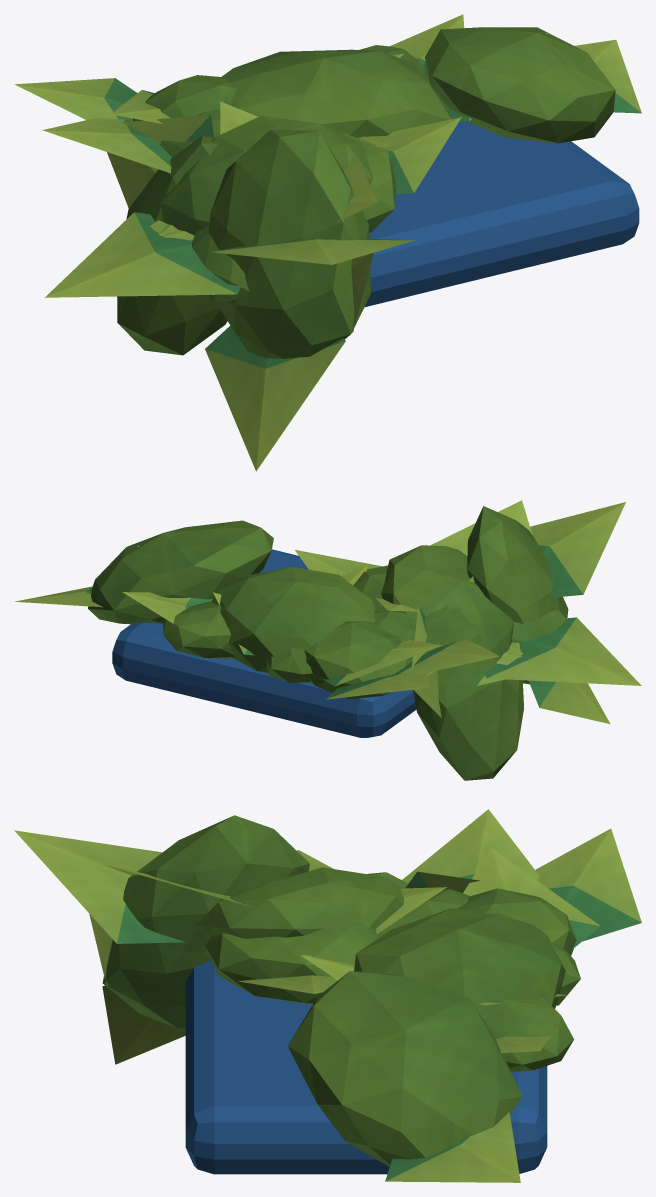
File: kit_roof_tile.glb
3 renders of one model, top to bottom at view 1: azimuth 30°, elevation 25°; view 2: azimuth 150°, elevation 25°; view 3: azimuth 270°, elevation 25°, orthographic. The views are drawn at different scales.
Visible parts, largest first — view 1: Soft edged blue roof tile, Woodland shared moss cushion.058, Woodland shared moss cushion.054, Woodland shared moss cushion.050, Woodland shared curved ivy leaf.126, Woodland shared curved ivy leaf.137, Woodland shared moss cushion.061, Woodland shared moss cushion.059, Woodland shared curved ivy leaf.130, Woodland shared curved ivy leaf.141, Woodland shared curved ivy leaf.123, Woodland shared curved ivy leaf.143 (+10 smaller); view 2: Soft edged blue roof tile, Woodland shared moss cushion.054, Woodland shared moss cushion.061, Woodland shared moss cushion.050, Woodland shared moss cushion.058, Woodland shared moss cushion.059, Woodland shared curved ivy leaf.126, Woodland shared curved ivy leaf.125, Woodland shared moss cushion.060, Woodland shared moss cushion.057, Woodland shared curved ivy leaf.137, Woodland shared curved ivy leaf.130 (+11 smaller); view 3: Woodland shared moss cushion.054, Soft edged blue roof tile, Woodland shared moss cushion.058, Woodland shared moss cushion.050, Woodland shared moss cushion.059, Woodland shared curved ivy leaf.125, Woodland shared moss cushion.051, Woodland shared curved ivy leaf.141, Woodland shared curved ivy leaf.128, Woodland shared moss cushion.057, Woodland shared curved ivy leaf.130, Woodland shared curved ivy leaf.132 (+10 smaller).
Boxes of the visible parts, x1,y1,x2,y2 form: Soft edged blue roof tile: (365,121,639,306); Woodland shared moss cushion.058: (208,129,370,358); Woodland shared moss cushion.054: (425,27,615,143); Woodland shared moss cushion.050: (220,49,451,137); Woodland shared curved ivy leaf.126: (45,212,240,297); Woodland shared curved ivy leaf.137: (205,325,345,471); Woodland shared moss cushion.061: (117,136,227,355); Woodland shared moss cushion.059: (160,115,373,235); Woodland shared curved ivy leaf.130: (42,118,171,173); Woodland shared curved ivy leaf.141: (14,78,137,121); Woodland shared curved ivy leaf.123: (379,117,461,194); Woodland shared curved ivy leaf.143: (107,114,214,208); Soft edged blue roof tile: (112,549,416,737); Woodland shared moss cushion.054: (88,520,273,624); Woodland shared moss cushion.061: (413,603,523,780); Woodland shared moss cushion.050: (211,567,375,673); Woodland shared moss cushion.058: (467,506,568,684); Woodland shared moss cushion.059: (381,545,513,660); Woodland shared curved ivy leaf.126: (484,617,641,685); Woodland shared curved ivy leaf.125: (530,502,625,597); Woodland shared moss cushion.060: (304,621,412,699); Woodland shared moss cushion.057: (163,602,234,658); Woodland shared curved ivy leaf.137: (529,680,610,724); Woodland shared curved ivy leaf.130: (393,639,499,674); Woodland shared moss cushion.054: (288,971,522,1166); Soft edged blue roof tile: (185,960,547,1174); Woodland shared moss cushion.058: (102,815,309,1028); Woodland shared moss cushion.050: (354,908,565,1019); Woodland shared moss cushion.059: (196,867,403,938); Woodland shared curved ivy leaf.125: (14,830,185,943); Woodland shared moss cushion.051: (205,925,383,1004); Woodland shared curved ivy leaf.141: (535,828,641,941); Woodland shared curved ivy leaf.128: (385,1112,520,1182); Woodland shared moss cushion.057: (484,998,573,1071); Woodland shared curved ivy leaf.130: (402,809,539,883); Woodland shared curved ivy leaf.132: (463,848,600,949).
Size of the model in its own units: 0.7795 by 0.3074 by 0.5904.
Materials: 4 (3 with a texture image).
